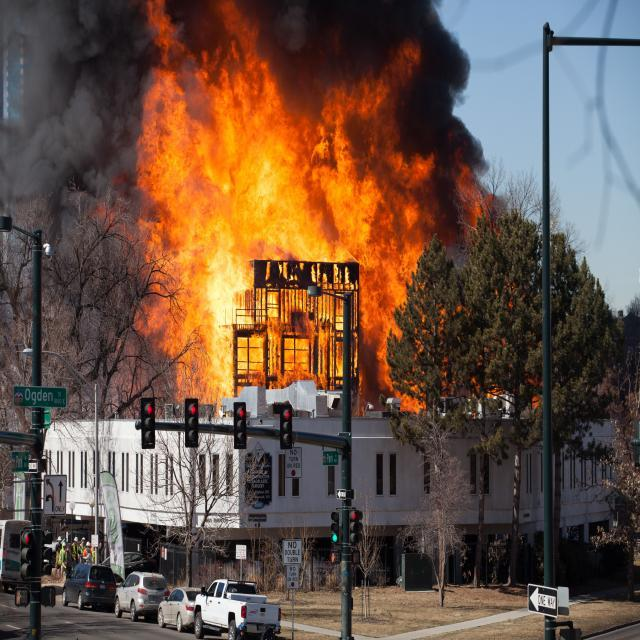Fire: (127, 9, 480, 414)
